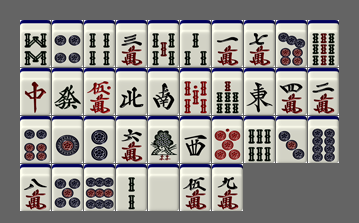0m: (84, 68, 115, 115)
0p: (212, 116, 243, 163)
0s: (180, 68, 211, 115)
1m: (212, 20, 243, 67)
1p: (52, 116, 83, 163)
1s: (148, 116, 179, 163)
1z: (244, 68, 275, 115)
2m: (308, 68, 339, 115)
2p: (84, 116, 115, 163)
2s: (116, 164, 147, 211)
2z: (148, 68, 179, 115)
3m: (116, 20, 147, 67)
3p: (276, 116, 307, 163)
3s: (180, 20, 211, 67)
3z: (180, 116, 211, 163)
4m: (276, 68, 307, 115)
4p: (52, 20, 83, 67)
4s: (84, 20, 115, 67)
4z: (116, 68, 147, 115)
5m: (180, 164, 211, 211)
5p: (52, 164, 83, 211)
5s: (148, 20, 179, 67)
5z: (148, 164, 179, 211)
6m: (116, 116, 147, 163)
6p: (20, 116, 51, 163)
6s: (244, 116, 275, 163)
6z: (52, 68, 83, 115)
7m: (244, 20, 275, 67)
7p: (276, 20, 307, 67)
7s: (212, 68, 243, 115)
7z: (20, 68, 51, 115)
8m: (20, 164, 51, 211)
8p: (308, 116, 339, 163)
8s: (20, 20, 51, 67)
9m: (212, 164, 243, 211)
9p: (84, 164, 115, 211)
9s: (308, 20, 339, 67)
